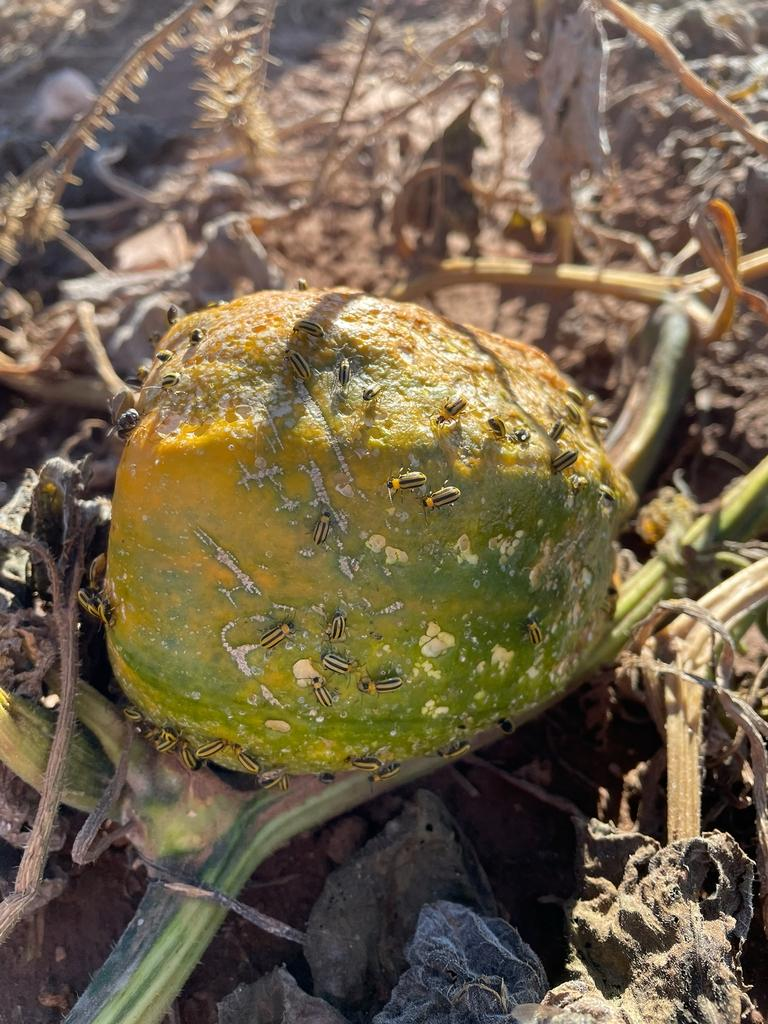potato_beetle: (373, 460, 442, 502), (249, 609, 301, 656), (311, 638, 360, 684), (353, 666, 411, 702), (418, 476, 463, 521), (299, 669, 340, 714), (305, 501, 339, 552), (325, 609, 351, 647)
